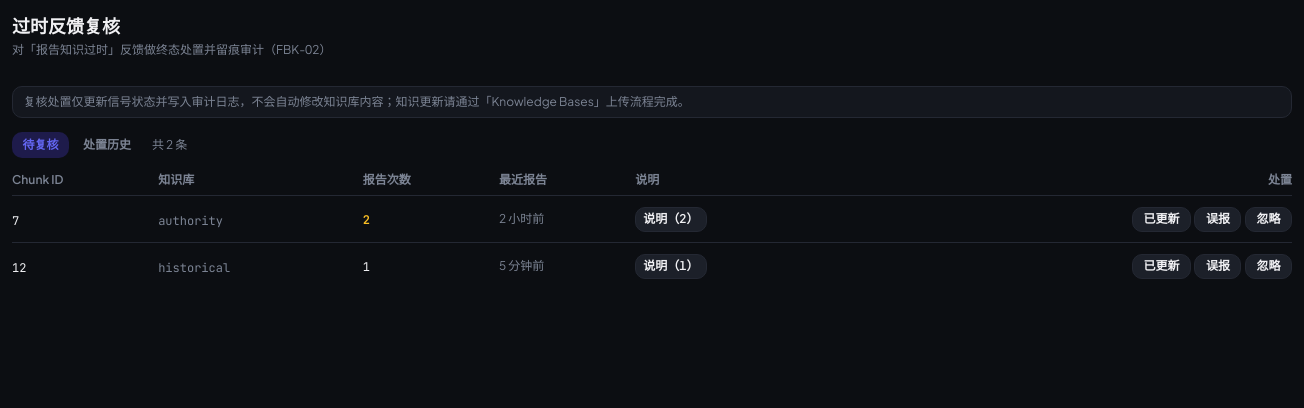
ReviewQueuePanel — expand per-report notes › expands the per-report sub-row and toggles aria-expanded
Step 1. Click the button with test id "review-expand-7" → coordinates (671, 219), box [635,207,706,232]
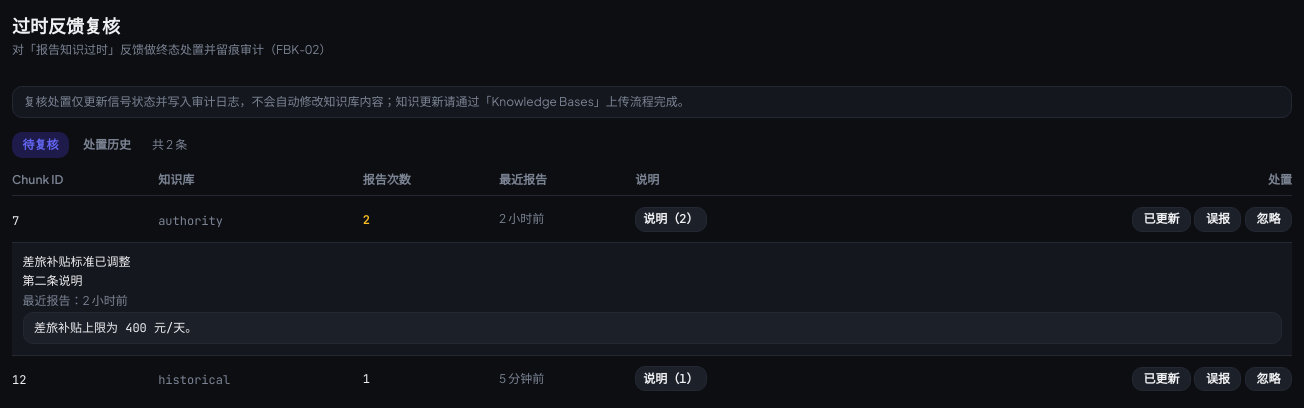
Expected: the element with test id "review-comments-7" shows "差旅补贴标准已调整", [22,254,130,269]
Expected: the element with test id "review-comments-7" shows "第二条说明", [22,273,82,288]
Expected: the text with test id "review-preview-7" reads "差旅补贴上限为 400 元/天。", [34,320,197,336]
